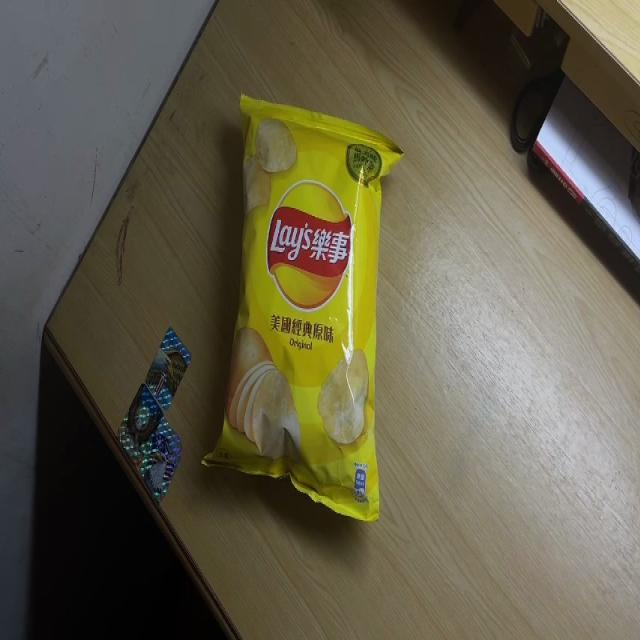Lay-s-original: (202, 94, 405, 521)
